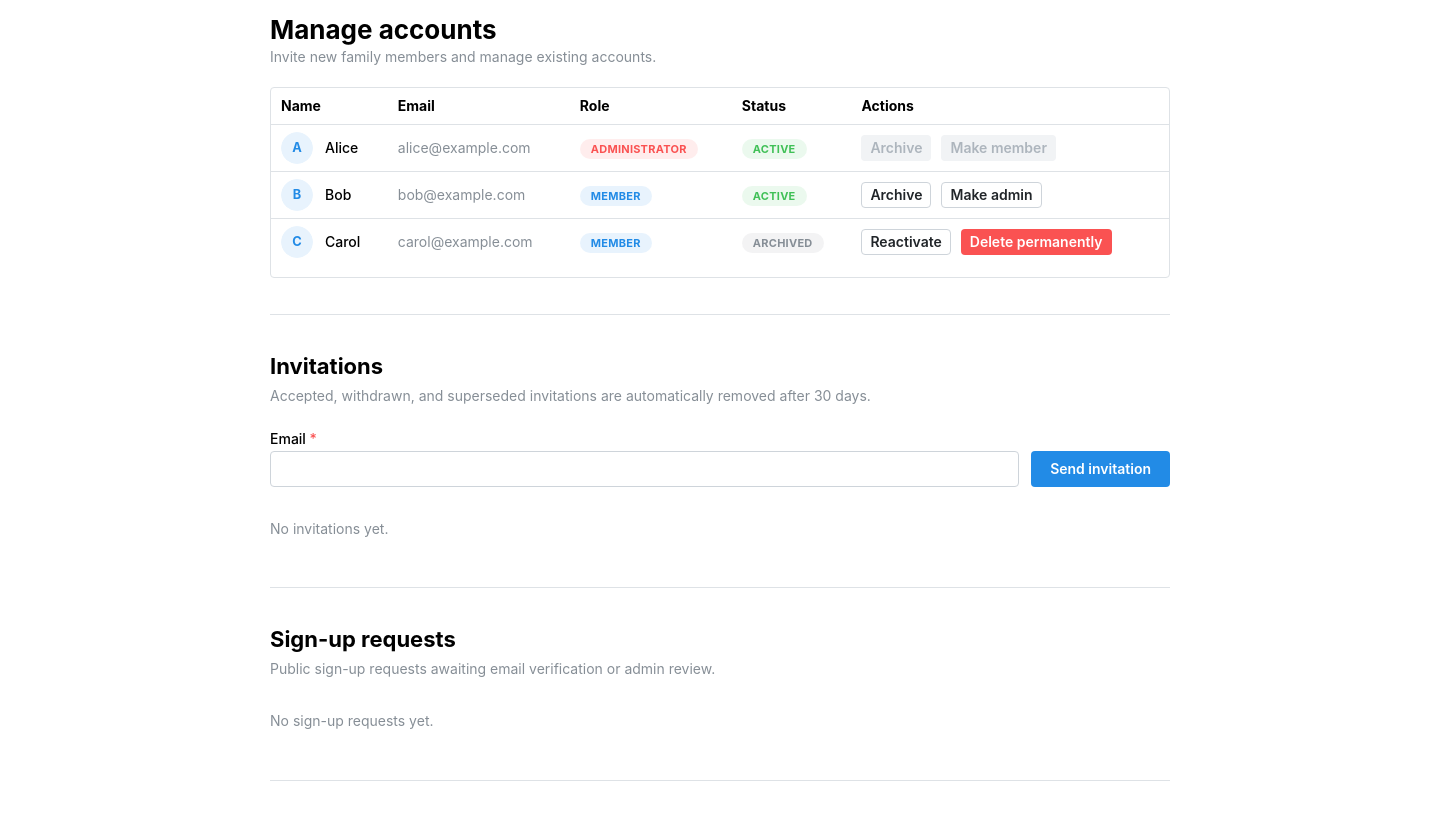
Test: AccountsAdmin – InviteForm › shows an error toast when invitation fails with 409
Type "dup@example.com" into the field labelled "Email *" at point(645, 469), box [270,451,1019,487]
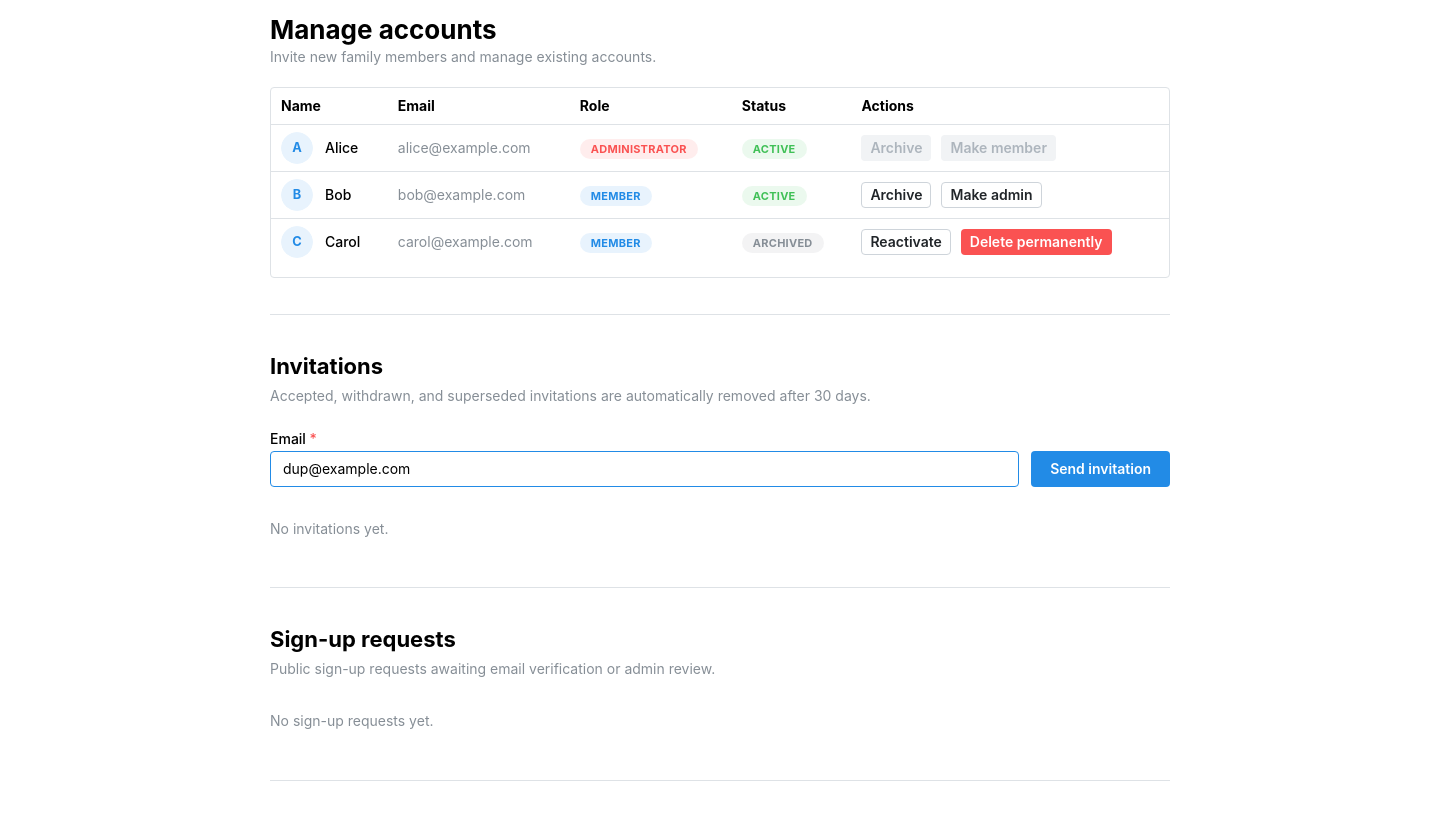
Click the button "Send invitation" at point(1101, 469), box [1031,451,1170,487]
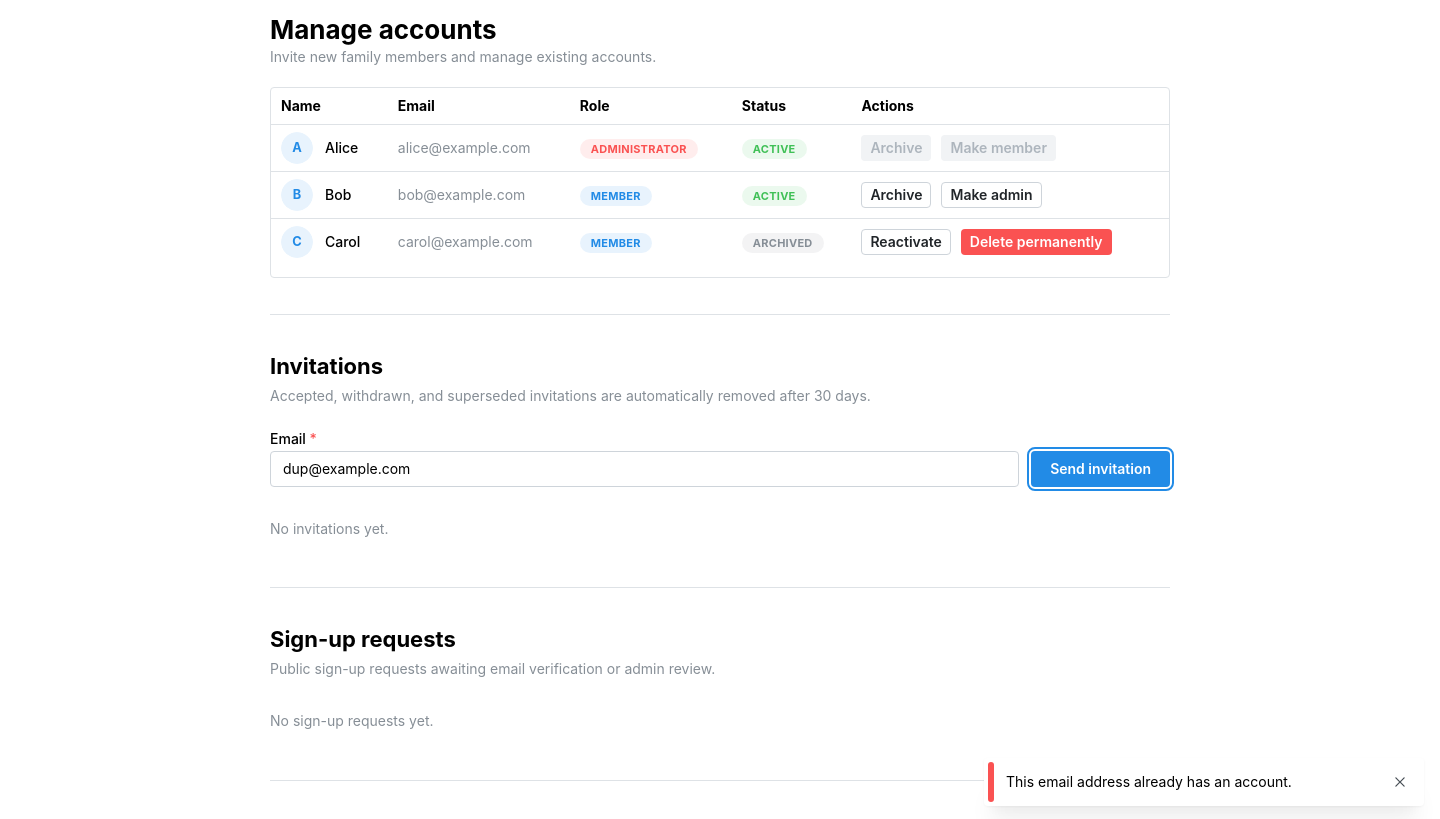
Now the text "This email address already has an account." is shown, box [1006,773,1292,790]
